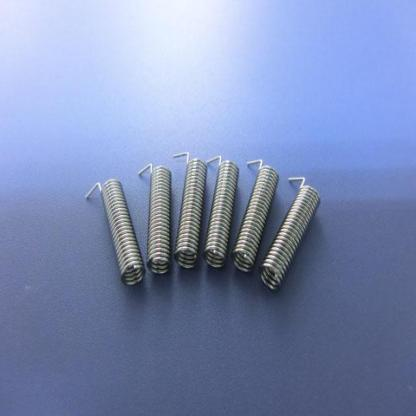FOD: (258, 174, 323, 292), (83, 176, 146, 286), (230, 157, 281, 275), (170, 149, 208, 270), (137, 161, 174, 278), (204, 154, 241, 270)
